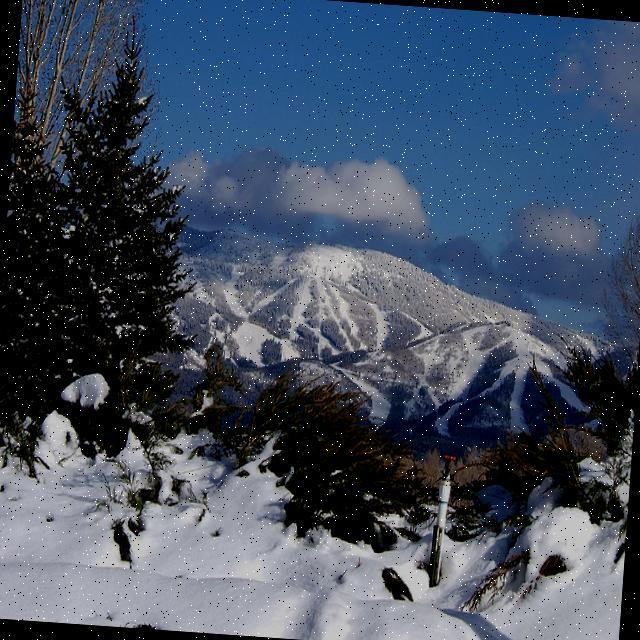fire_hydrant: (434, 453, 456, 532)
